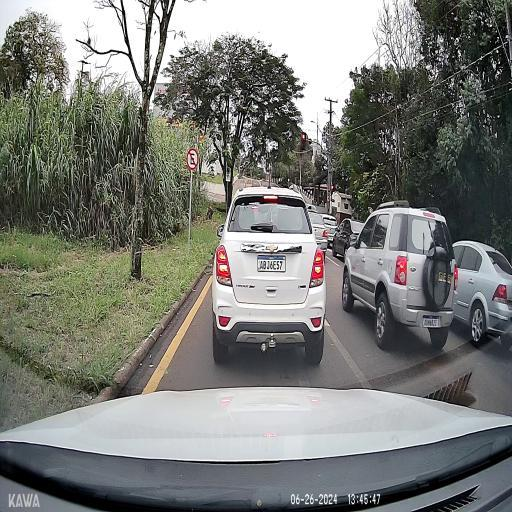R-6a: (186, 148, 198, 171)
